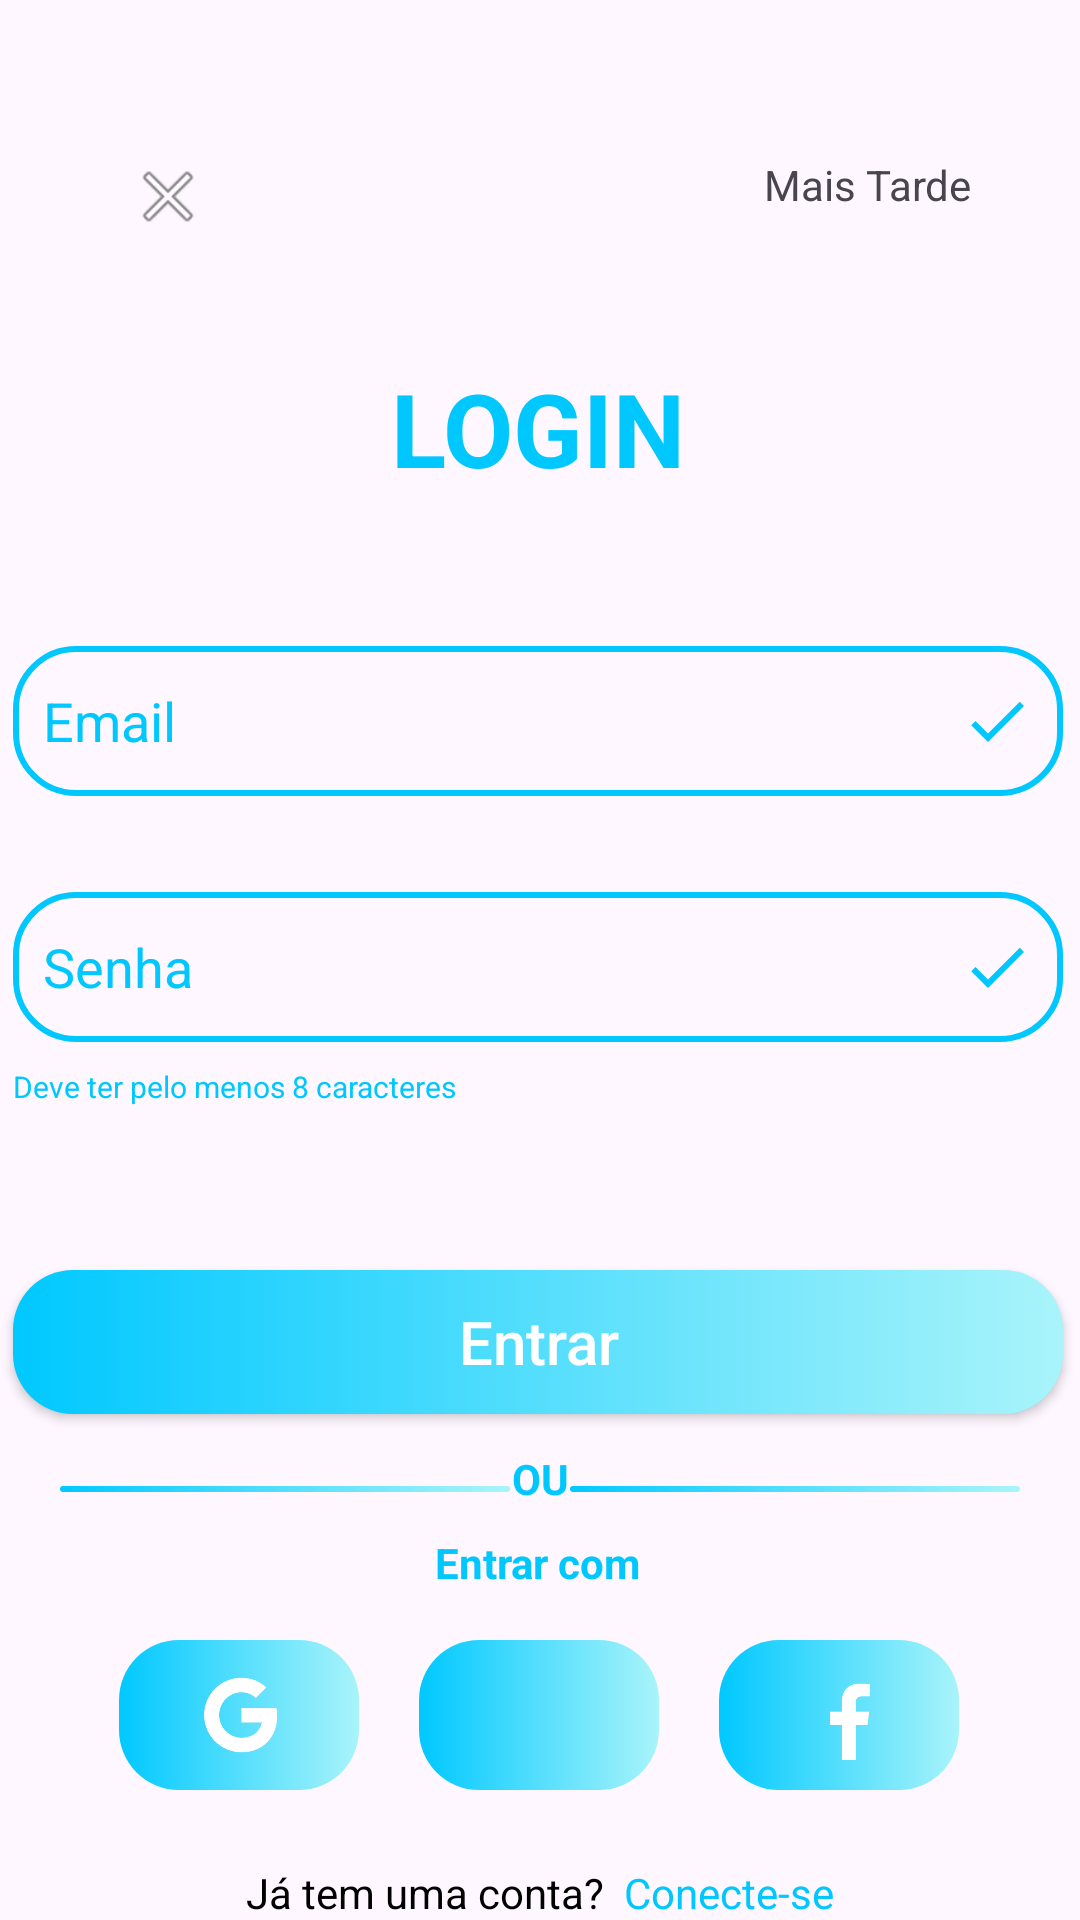

Where icons sit on this 1080 x 1920 app screen, as [x1, y1, x2, y2]:
close clear cancel: [143, 171, 193, 222]
